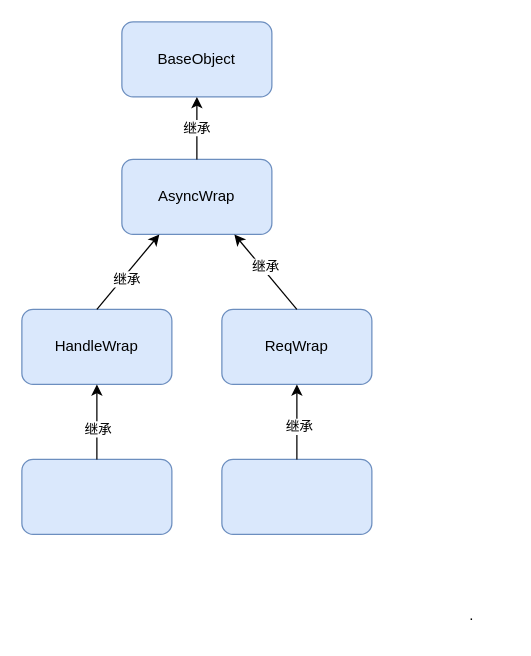
This 531x656 diagram has some shape labels left out. Here are the shapes that lost their labels. From the top down, the box of each, then its label:
(21, 458, 172, 534): TCPWrap
(221, 458, 372, 534): ConnectWrap
